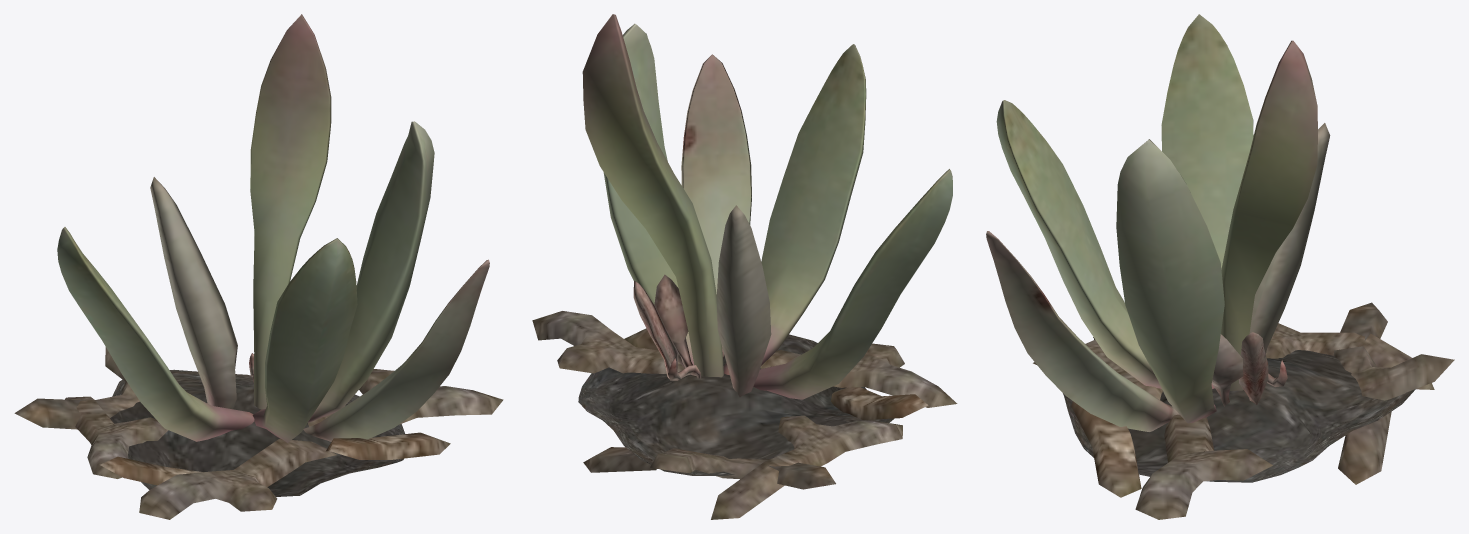
The model's file is cheiridopsis_succulent_b.gltf.
The picture shows the model from 3 angles, left to right: view 1: azimuth 30°, elevation 25°; view 2: azimuth 150°, elevation 25°; view 3: azimuth 270°, elevation 25°; orthographic projection. The views are drawn at different scales.
Parts seen in each view (by area): view 1: cheiridopsis_succulent_a_LOD0; view 2: cheiridopsis_succulent_a_LOD0; view 3: cheiridopsis_succulent_a_LOD0.
Part boxes in pixels (x1,y1,x2,y2): cheiridopsis_succulent_a_LOD0: (14,14,503,519); cheiridopsis_succulent_a_LOD0: (532,14,957,519); cheiridopsis_succulent_a_LOD0: (986,14,1454,519).
Size of the model in its own units: 0.2012 by 0.1854 by 0.1772.
1 material, 1 textured.
